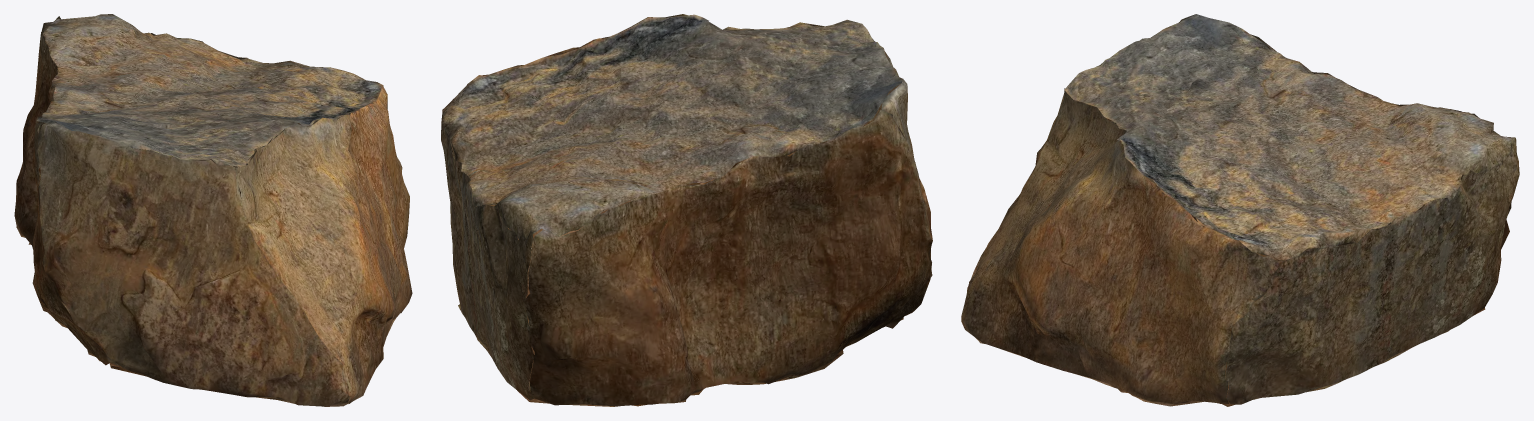
File: grock_b.glb
3 views of the same model, side by side, from view 1: azimuth 30°, elevation 25°; view 2: azimuth 150°, elevation 25°; view 3: azimuth 270°, elevation 25° (orthographic). The views are drawn at different scales.
Visible parts, largest first — view 1: grock_b_v0_lod0; view 2: grock_b_v0_lod0; view 3: grock_b_v0_lod0.
Part boxes in pixels (box(x1,y1,x2,y2)): grock_b_v0_lod0: box(14, 14, 412, 406); grock_b_v0_lod0: box(441, 14, 932, 406); grock_b_v0_lod0: box(961, 14, 1519, 406).
Size of what is drawn, in the model's own units: 2.4 by 1.48 by 3.08.
1 material, 1 textured.
